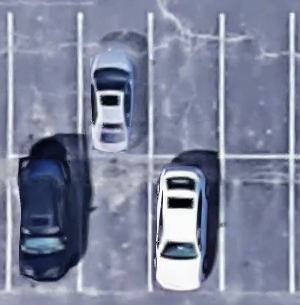Occupied: (80, 13, 151, 157), (150, 157, 222, 291), (9, 155, 79, 292)
Vacant: (150, 14, 223, 156), (222, 13, 292, 156), (10, 13, 80, 155), (222, 157, 293, 292), (80, 155, 150, 291)
